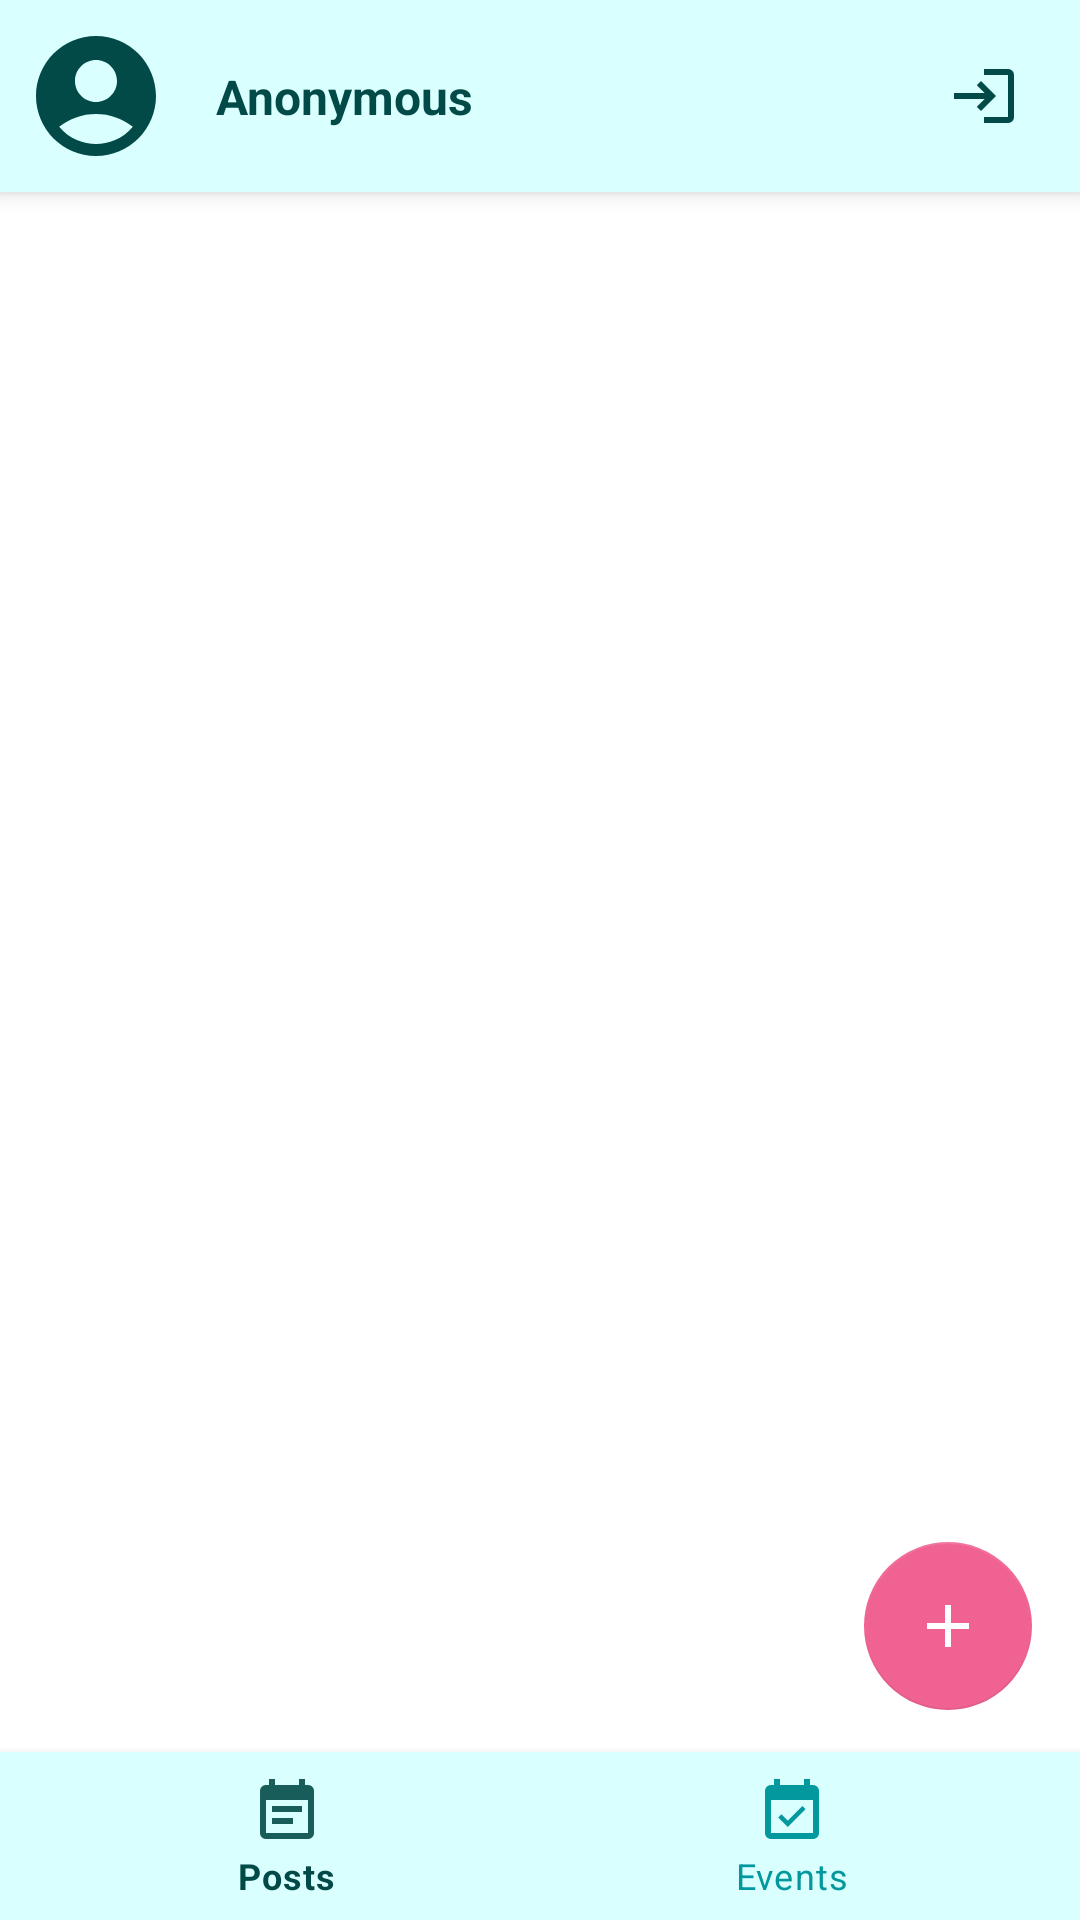

Named icons in this screenshot (1080px x 1920px) and their centers, (x=x, y=y):
Login: (x=984, y=96)
plus: (x=948, y=1626)
User avatar: (x=96, y=96)
